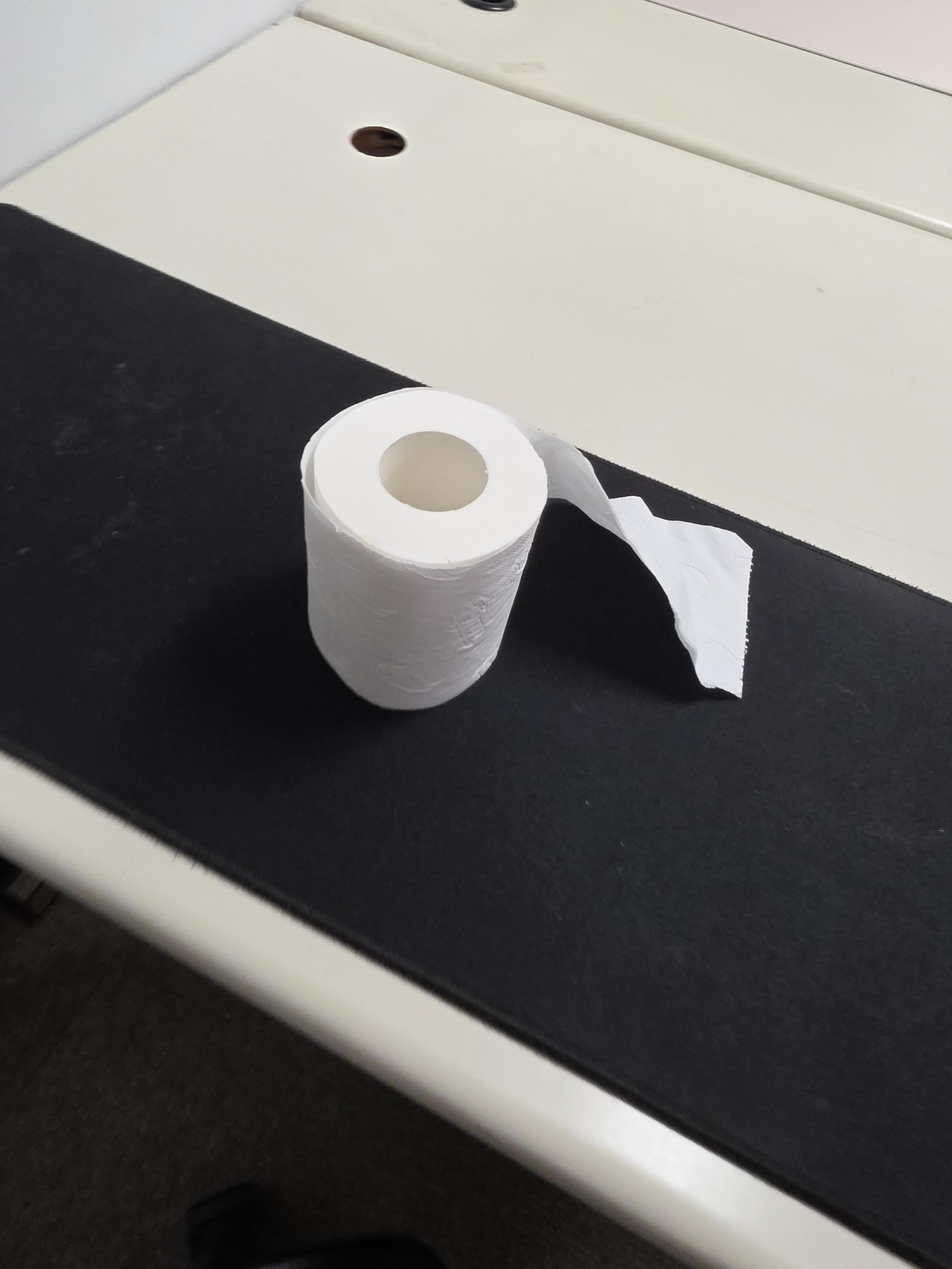tissue: (300, 387, 754, 711)
